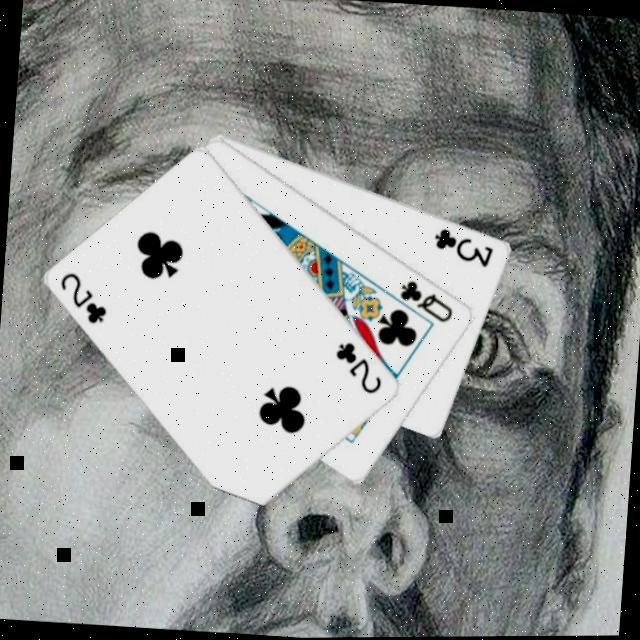2C: (52, 265, 111, 326), (328, 335, 386, 396)
3C: (428, 222, 497, 269)
QC: (393, 274, 457, 325)
